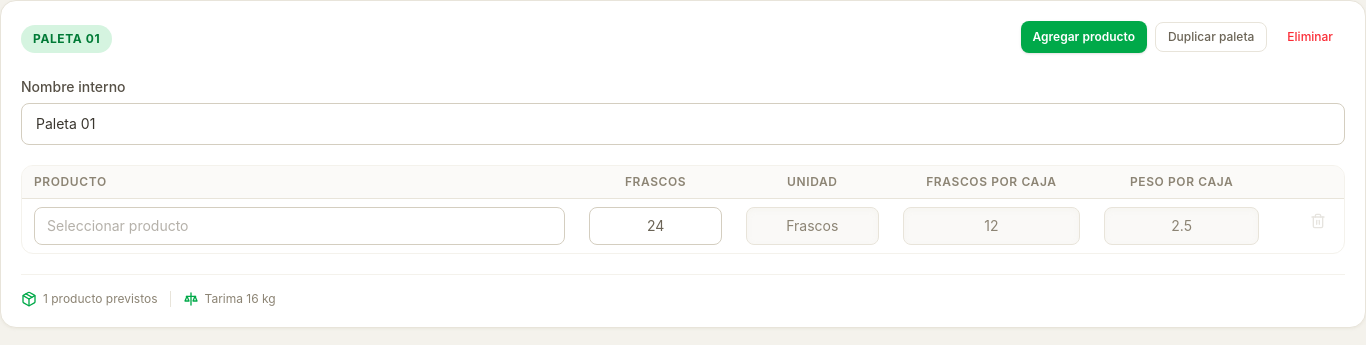
PalletCard — reusable product combobox › does not render product options when opening the dropdown with an empty product field
Click the dropdown labelled "Seleccionar producto" at (300, 226), box x1=34 y1=207 x2=565 y2=245
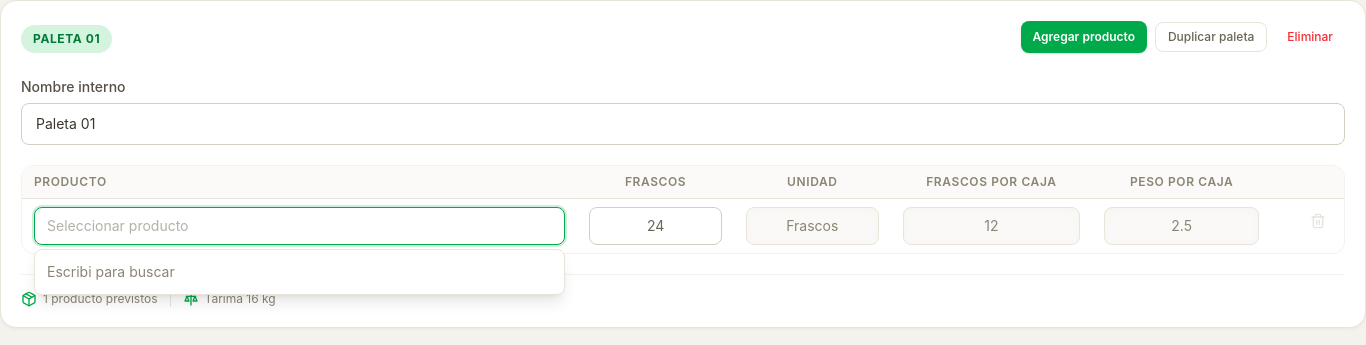
Expected: the list reads "Escribi para buscar", x1=47 y1=263 x2=175 y2=280
